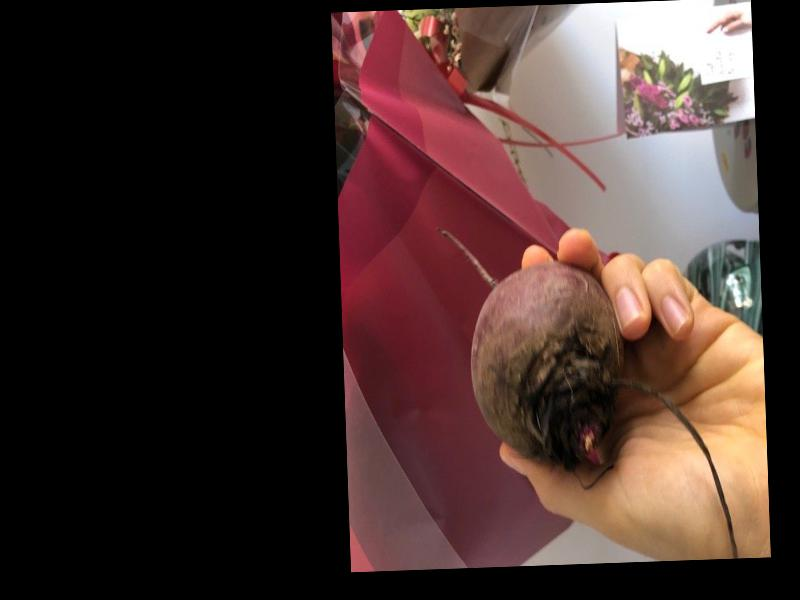Beet: (437, 216, 738, 564)
